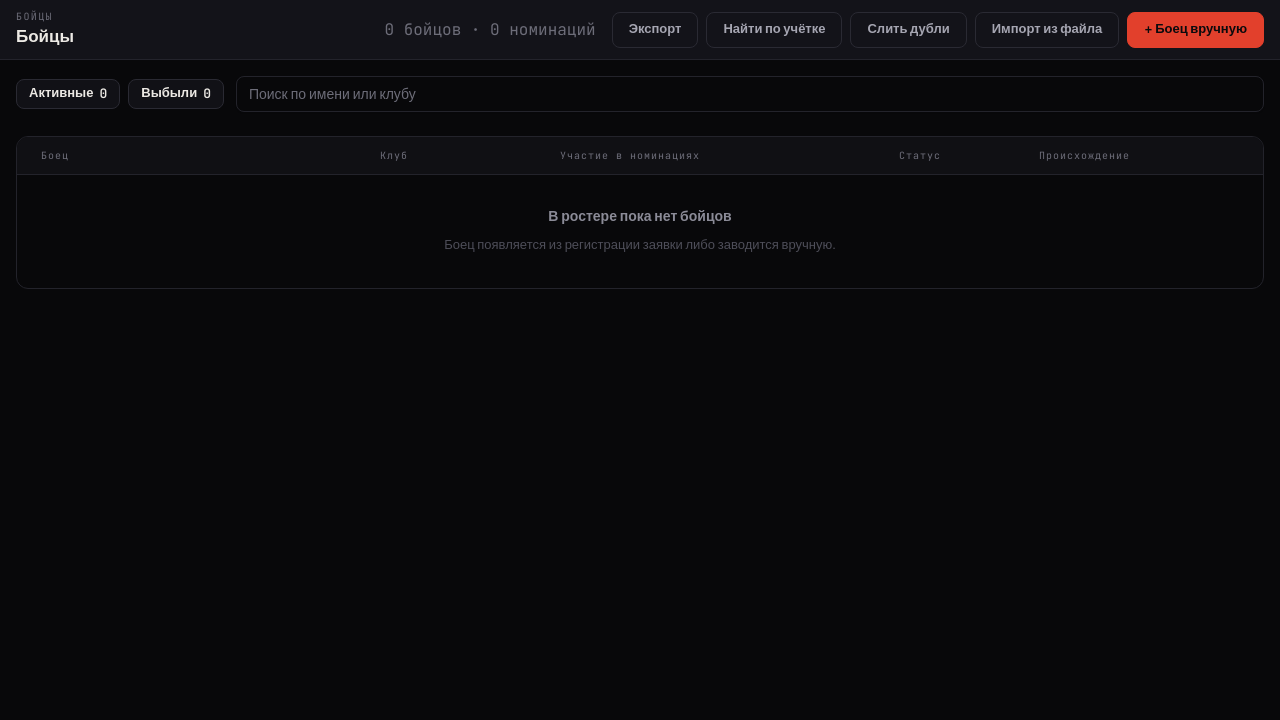
Test case: FightersScreen › opens the find-by-account dialog from the section header (spec 0040, FR-9)
The width and height of the screenshot is (1280, 720).
What coordinates should you click on to do the following:
click the button "Найти по учётке"
I would click on:
 (774, 30)
Its box is [706,12,842,48].
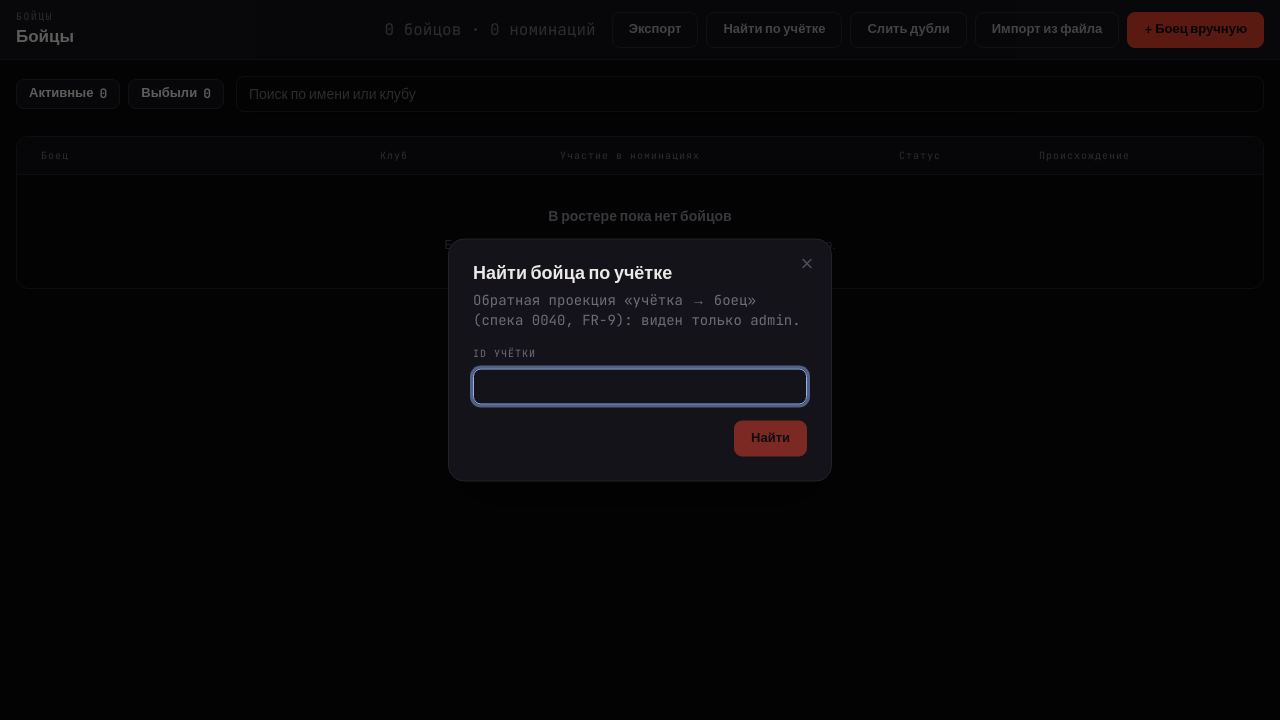
Now the dialog "Найти бойца по учётке" is shown, box [448,238,832,482]
